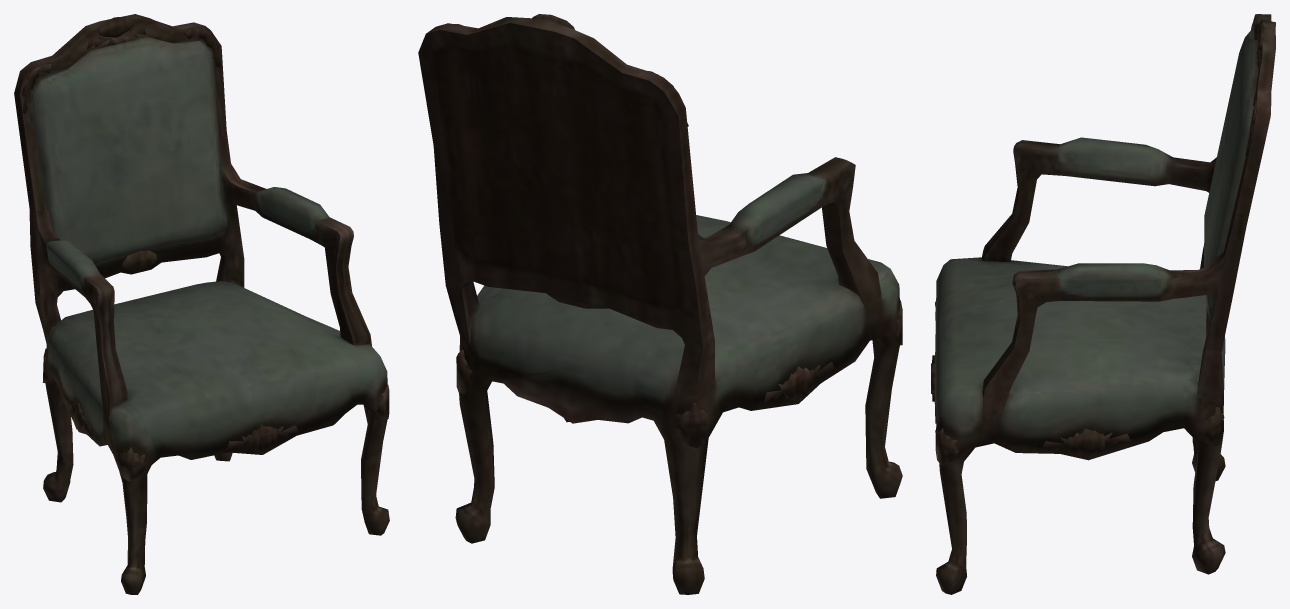
File: th_gruenstuhl.glb
3 views of the same model, side by side, from view 1: azimuth 30°, elevation 25°; view 2: azimuth 150°, elevation 25°; view 3: azimuth 270°, elevation 25° (orthographic). The views are drawn at different scales.
Visible parts, largest first — view 1: GreenChair_01; view 2: GreenChair_01; view 3: GreenChair_01.
Boxes of the visible parts, left/top/right/bottom form: GreenChair_01: left=14, top=14, right=389, bottom=594; GreenChair_01: left=418, top=14, right=902, bottom=594; GreenChair_01: left=931, top=14, right=1275, bottom=594.
Bounding box in the file's own units: 0.6716 × 1.06 × 0.6644.
Materials: 1 (1 with a texture image).
